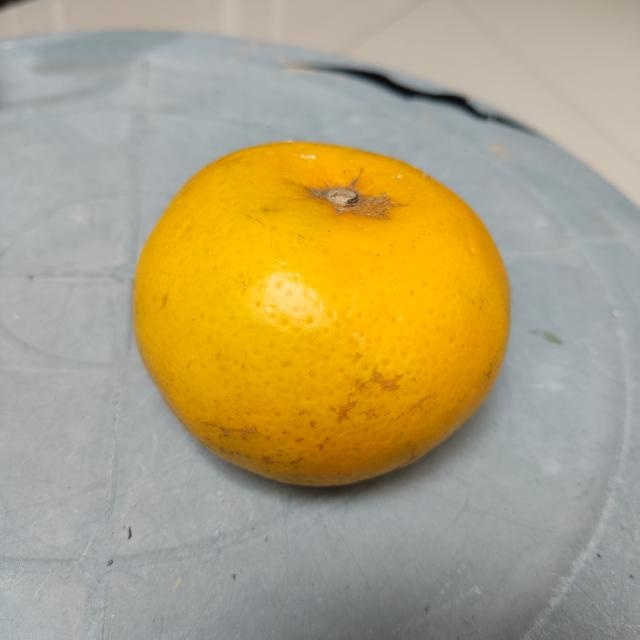agrume: (127, 138, 513, 490)
